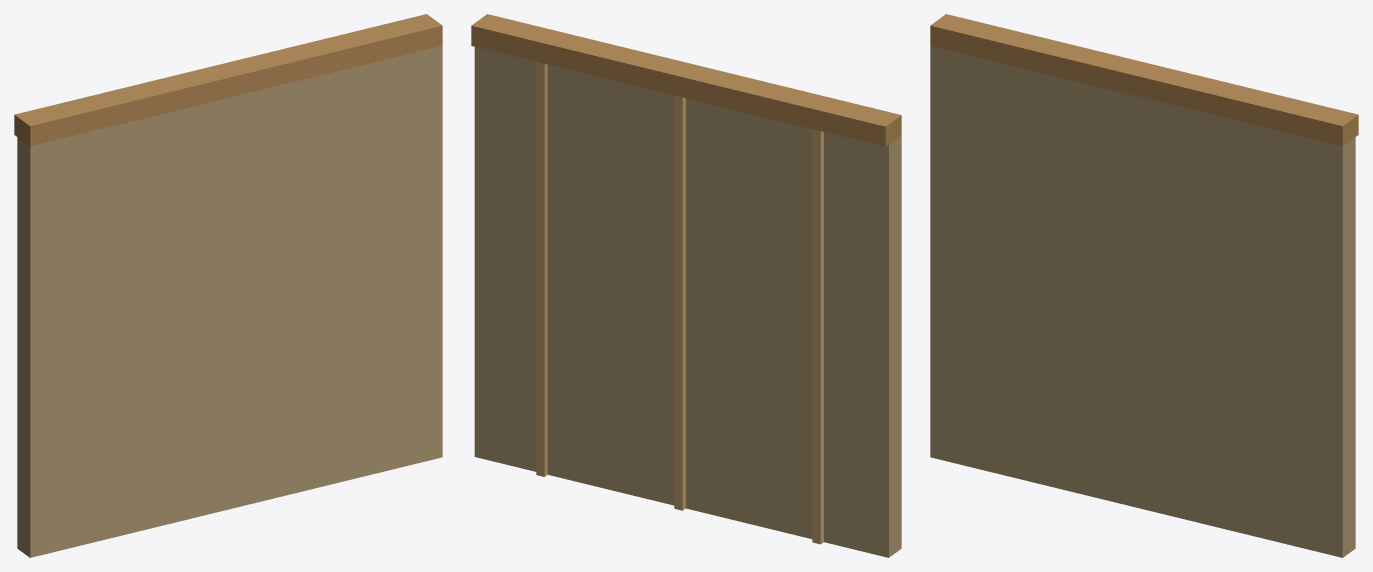
The model's file is con_wall_wood.glb.
3 renders of one model, left to right at view 1: azimuth 30°, elevation 25°; view 2: azimuth 150°, elevation 25°; view 3: azimuth 330°, elevation 25°, orthographic.
Visible parts, largest first — view 1: con_wall_wood; view 2: con_wall_wood; view 3: con_wall_wood.
Boxes of the visible parts, x1=… form: con_wall_wood: x1=14, y1=14, x2=442, y2=557; con_wall_wood: x1=471, y1=14, x2=901, y2=557; con_wall_wood: x1=930, y1=14, x2=1358, y2=557.
Bounding box in the file's own units: 3 × 3 × 0.2.
